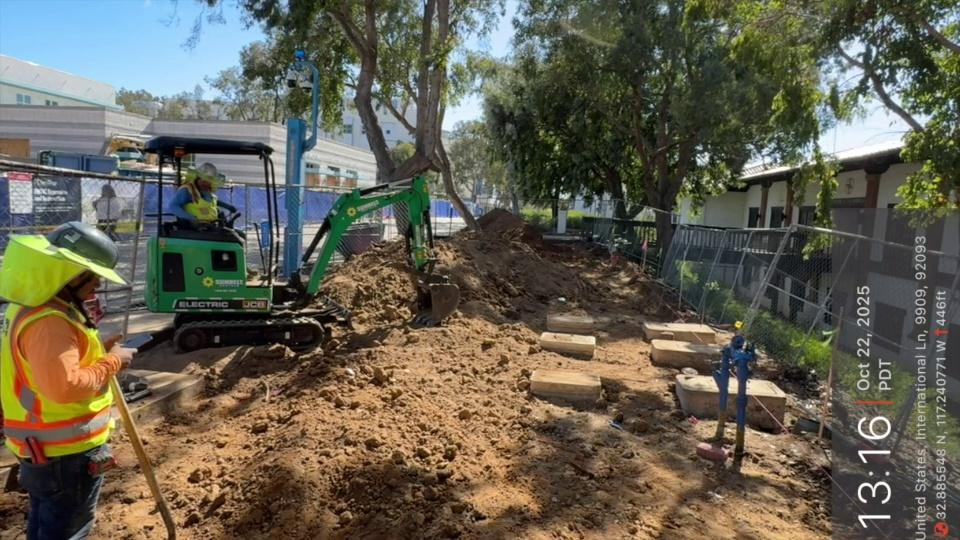Exacavator: (140, 122, 470, 360)
